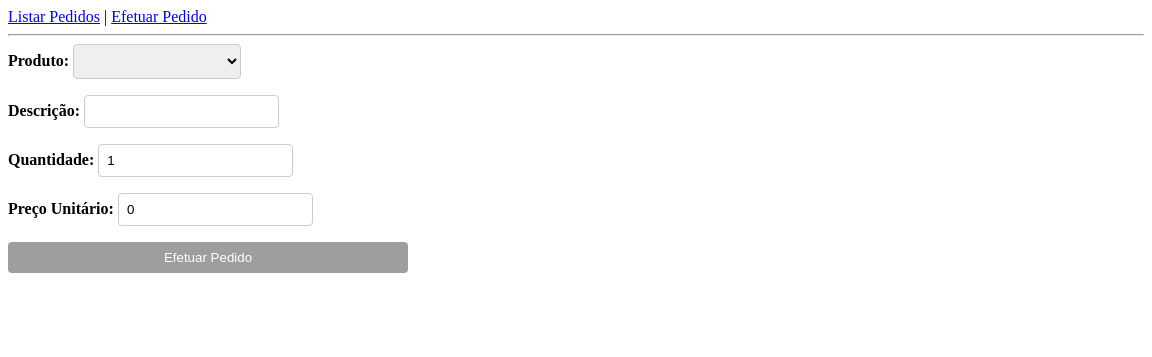
Test case: Efetuar Pedido › Deve efetuar um pedido com sucesso
This screenshot has width=1152, height=357.
Select "Mouse Logitech" in the dropdown named "produtoId": (157, 62) [73,44,241,79]
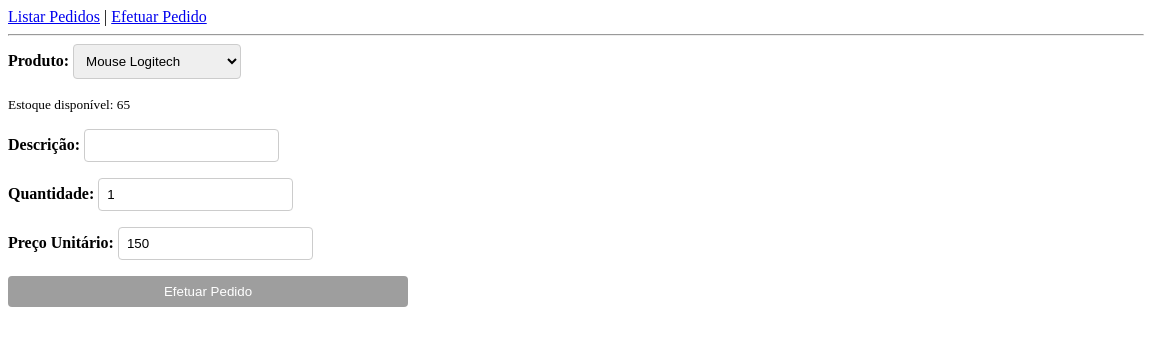
In the field named "descricao": (182, 146) [84,129,279,162], type "Pedido via Cypress"
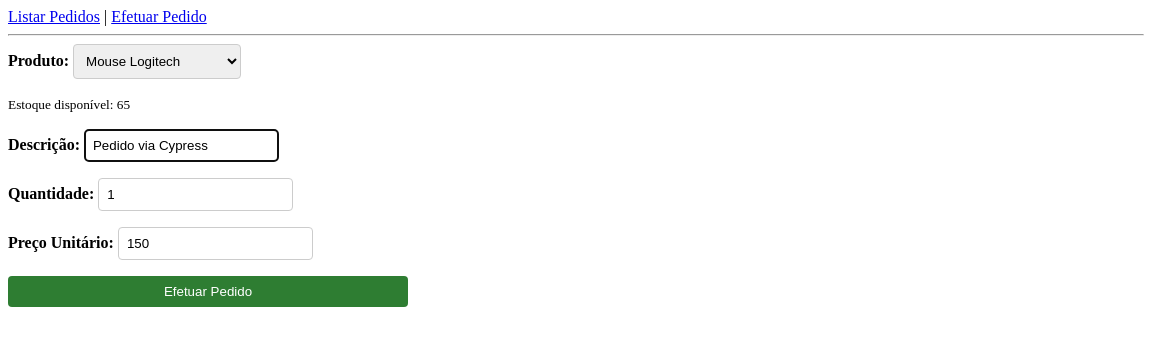
Replace the text in the number field named "quantidade" with "2": (196, 195) [98,178,293,211]
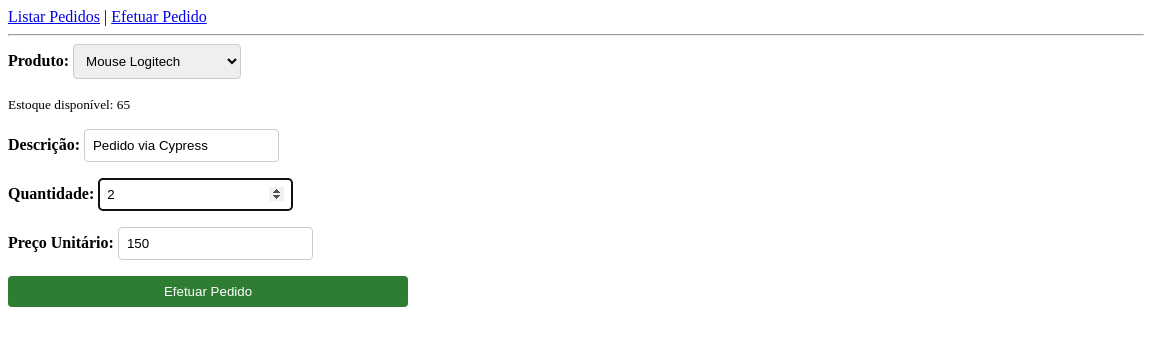
Check: the submit button is enabled
Click the submit button: (208, 292) [8,276,408,307]
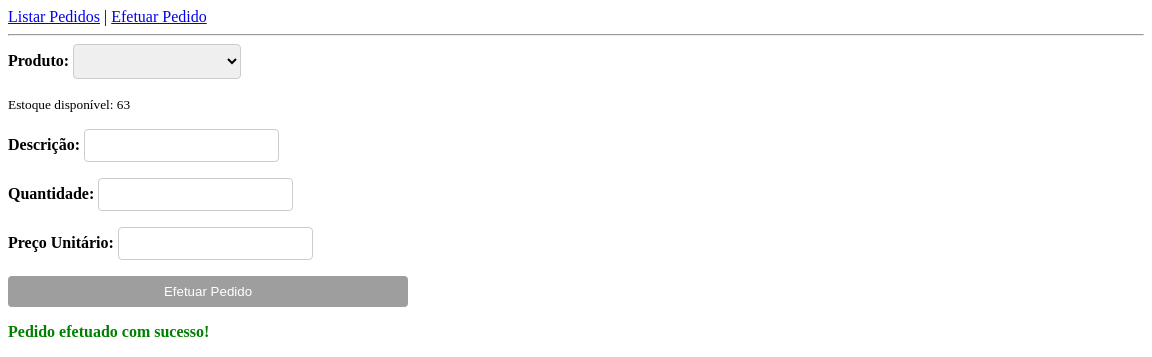
Check: the text "Pedido efetuado com sucesso!" is shown, box [8,323,209,340]
